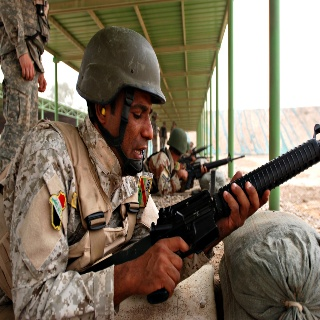rifle: (73, 122, 320, 304), (182, 154, 246, 189), (190, 141, 212, 155)
